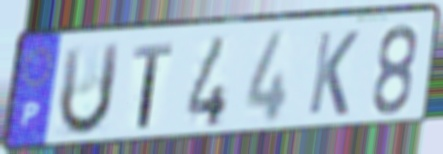4: (243, 27, 294, 128), (183, 34, 229, 130)
8: (371, 22, 420, 118)
K: (305, 28, 362, 118)
T: (131, 41, 175, 131)
U: (55, 39, 124, 141)
